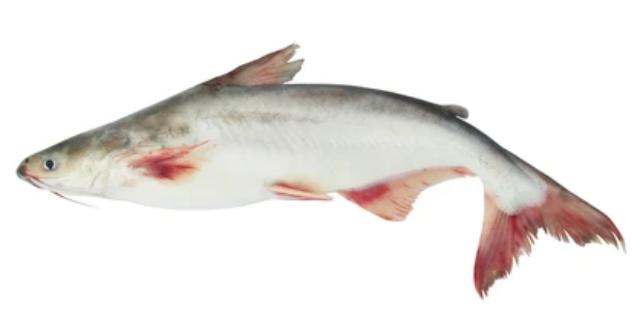Mulut: (14, 147, 74, 205)
Sirip Anal: (340, 155, 476, 222)
Sirip Dada: (130, 144, 220, 184)
Sirip Ekor: (472, 176, 626, 298)
Sirip Perut: (265, 172, 333, 210)
Sirip Punggung: (223, 37, 315, 91)
